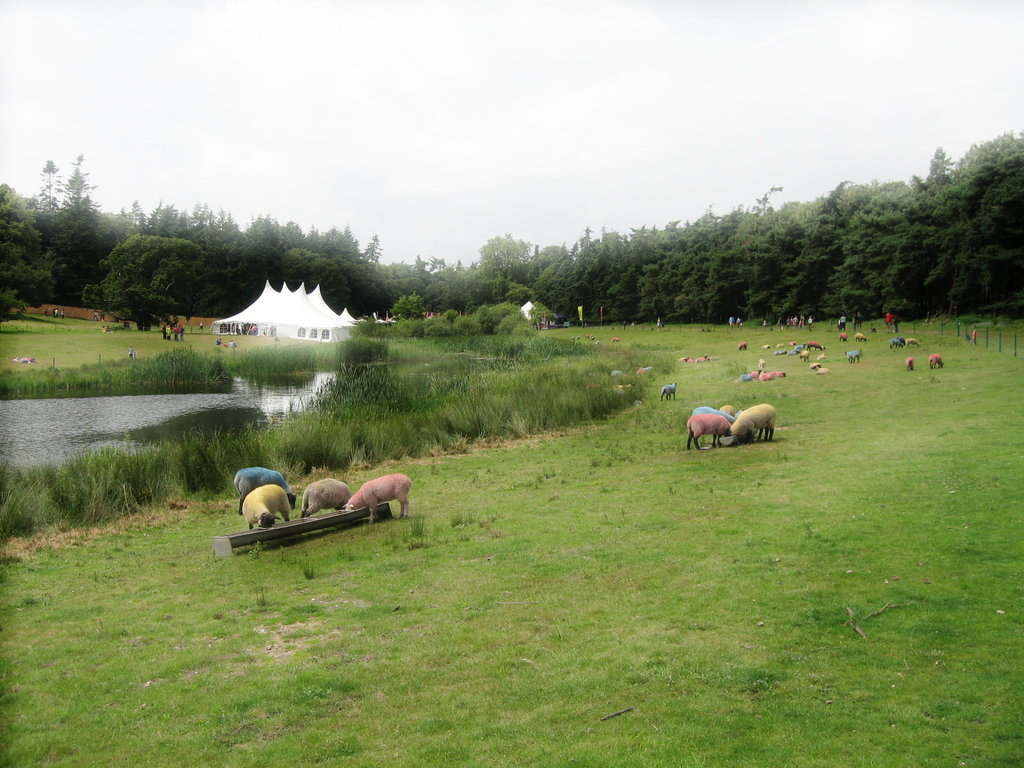sheep: (730, 405, 777, 445), (686, 415, 730, 449), (659, 379, 678, 401)
